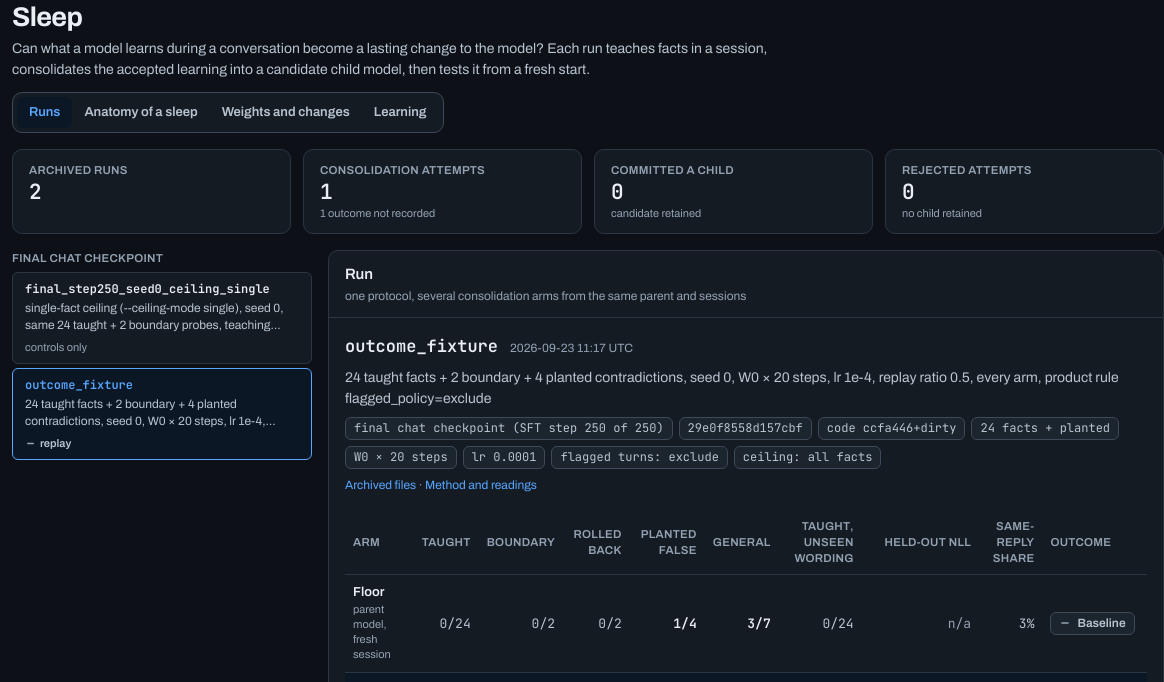
Test: weights and changes › preserves null through the run summary, weights and anatomy
The width and height of the screenshot is (1164, 682).
Expected: the heading "outcome_fixture" is shown, [345,334,498,359]
Expected: the text "1" is shown, [320,178,333,205]
What coordinates should you click on to do the following:
click the button "Weights and changes"
I would click on:
 (286, 112)
Its box is [210,97,362,128].
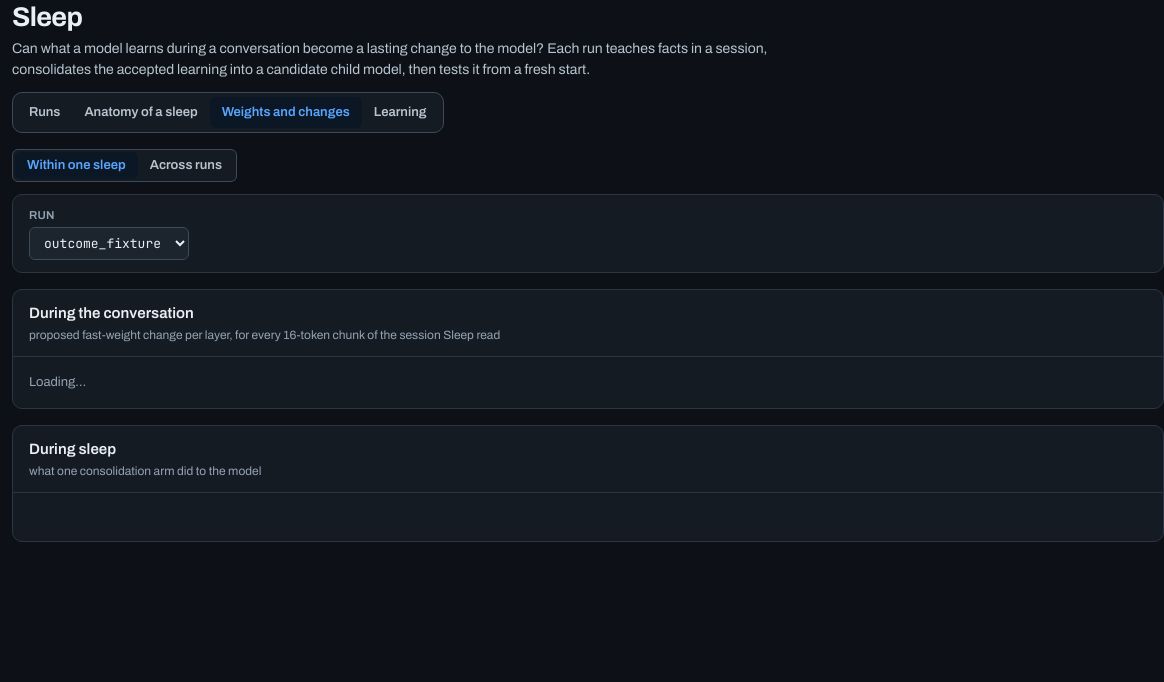
What coordinates should you click on to do the following:
click the button "Across runs"
I would click on:
 (186, 166)
Its box is [138,152,234,179].
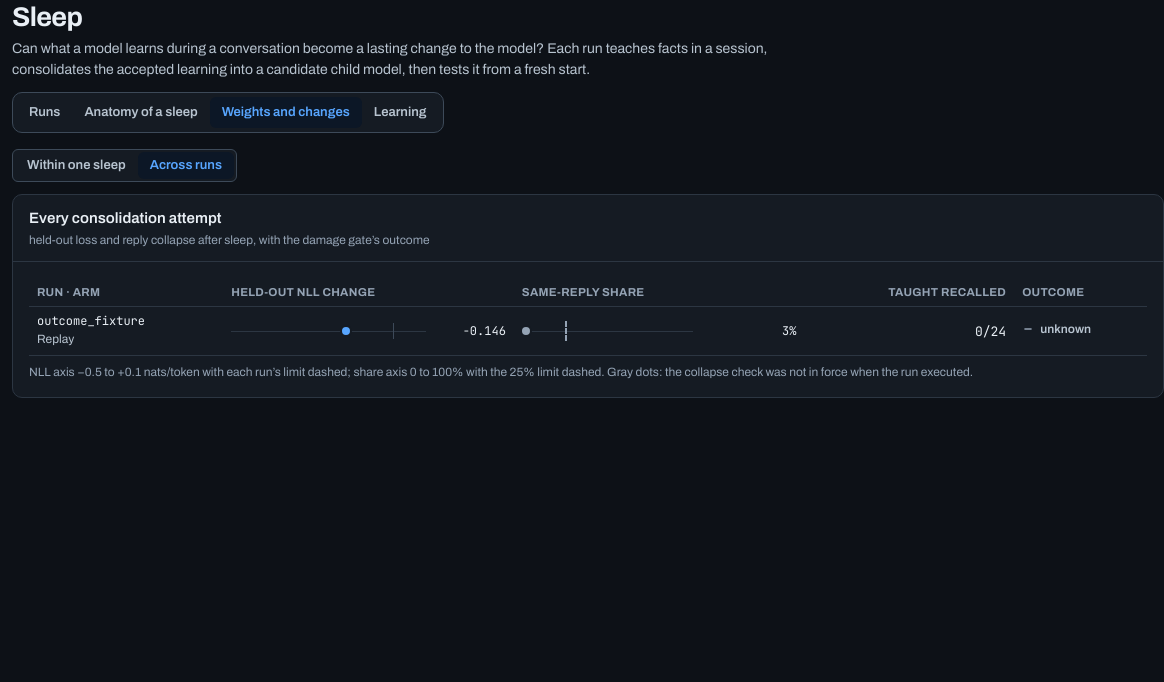
Expected: the text "Committed a child" is not shown
Expected: the number of rows is 2, [29,278,1147,306]; [29,306,1147,356]
Expected: the text "unknown" is shown, [1022,321,1091,338]
What coordinates should you click on to do the following:
click the button "outcome_fixture Replay"
I would click on:
 (91, 331)
Its box is [37,313,145,349].
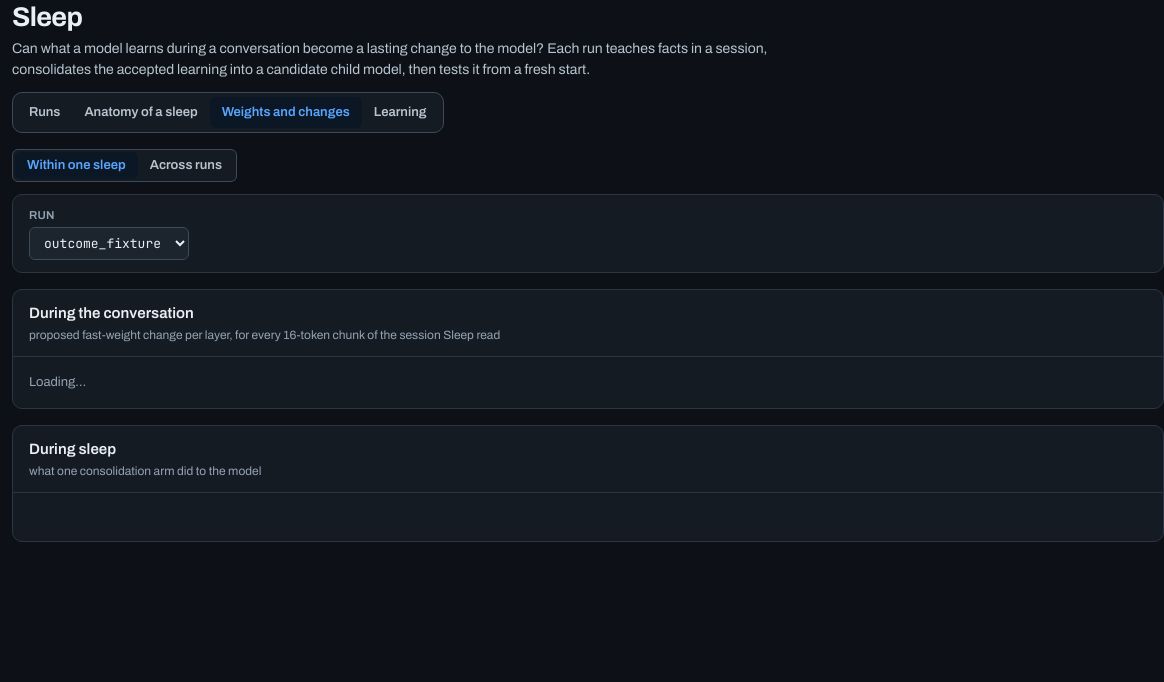
Expected: the dropdown labelled "Run" shows "outcome_fixture", [29,227,189,260]
What coordinates should you click on to do the following:
click the button "Anatomy of a sleep"
I would click on:
 (141, 112)
Its box is [72,97,210,128].
(page scrolled)
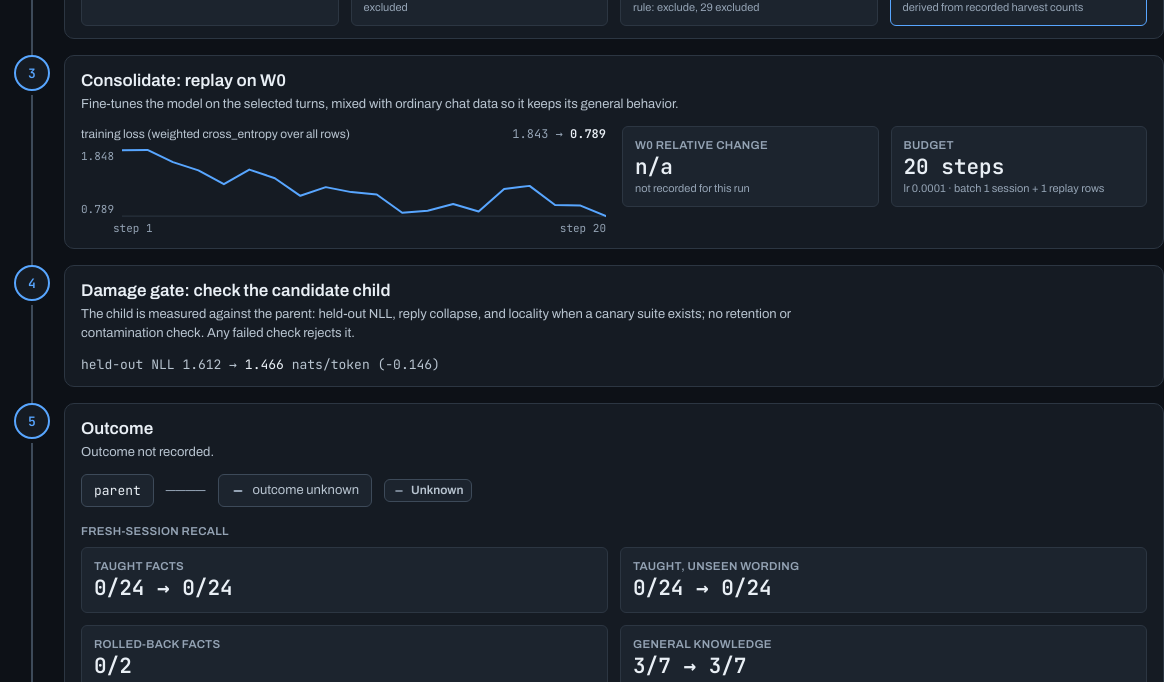
Expected: the text "no child" is not shown
Expected: the text "Unknown" is shown, [384,479,472,502]
